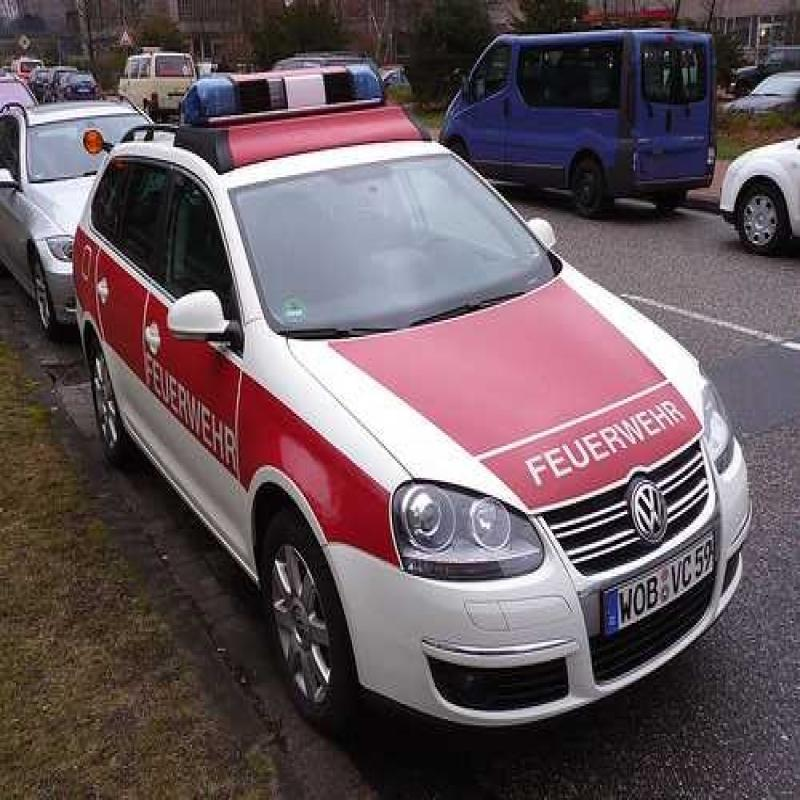AmbulanceSiren: (170, 41, 389, 126)
